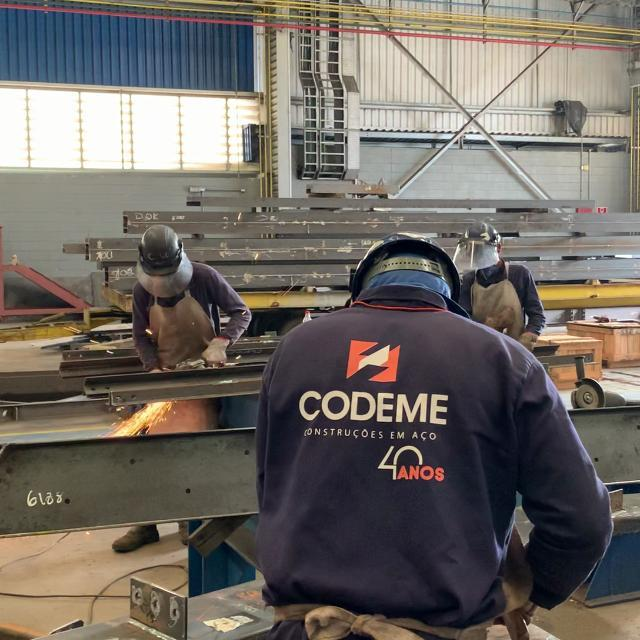face-shield: (134, 247, 195, 297), (450, 239, 498, 273)
glove: (204, 332, 228, 365)
helmet: (346, 236, 462, 306), (142, 222, 182, 273), (462, 221, 501, 243)
person: (254, 236, 617, 613), (134, 225, 253, 367), (454, 220, 550, 354)
